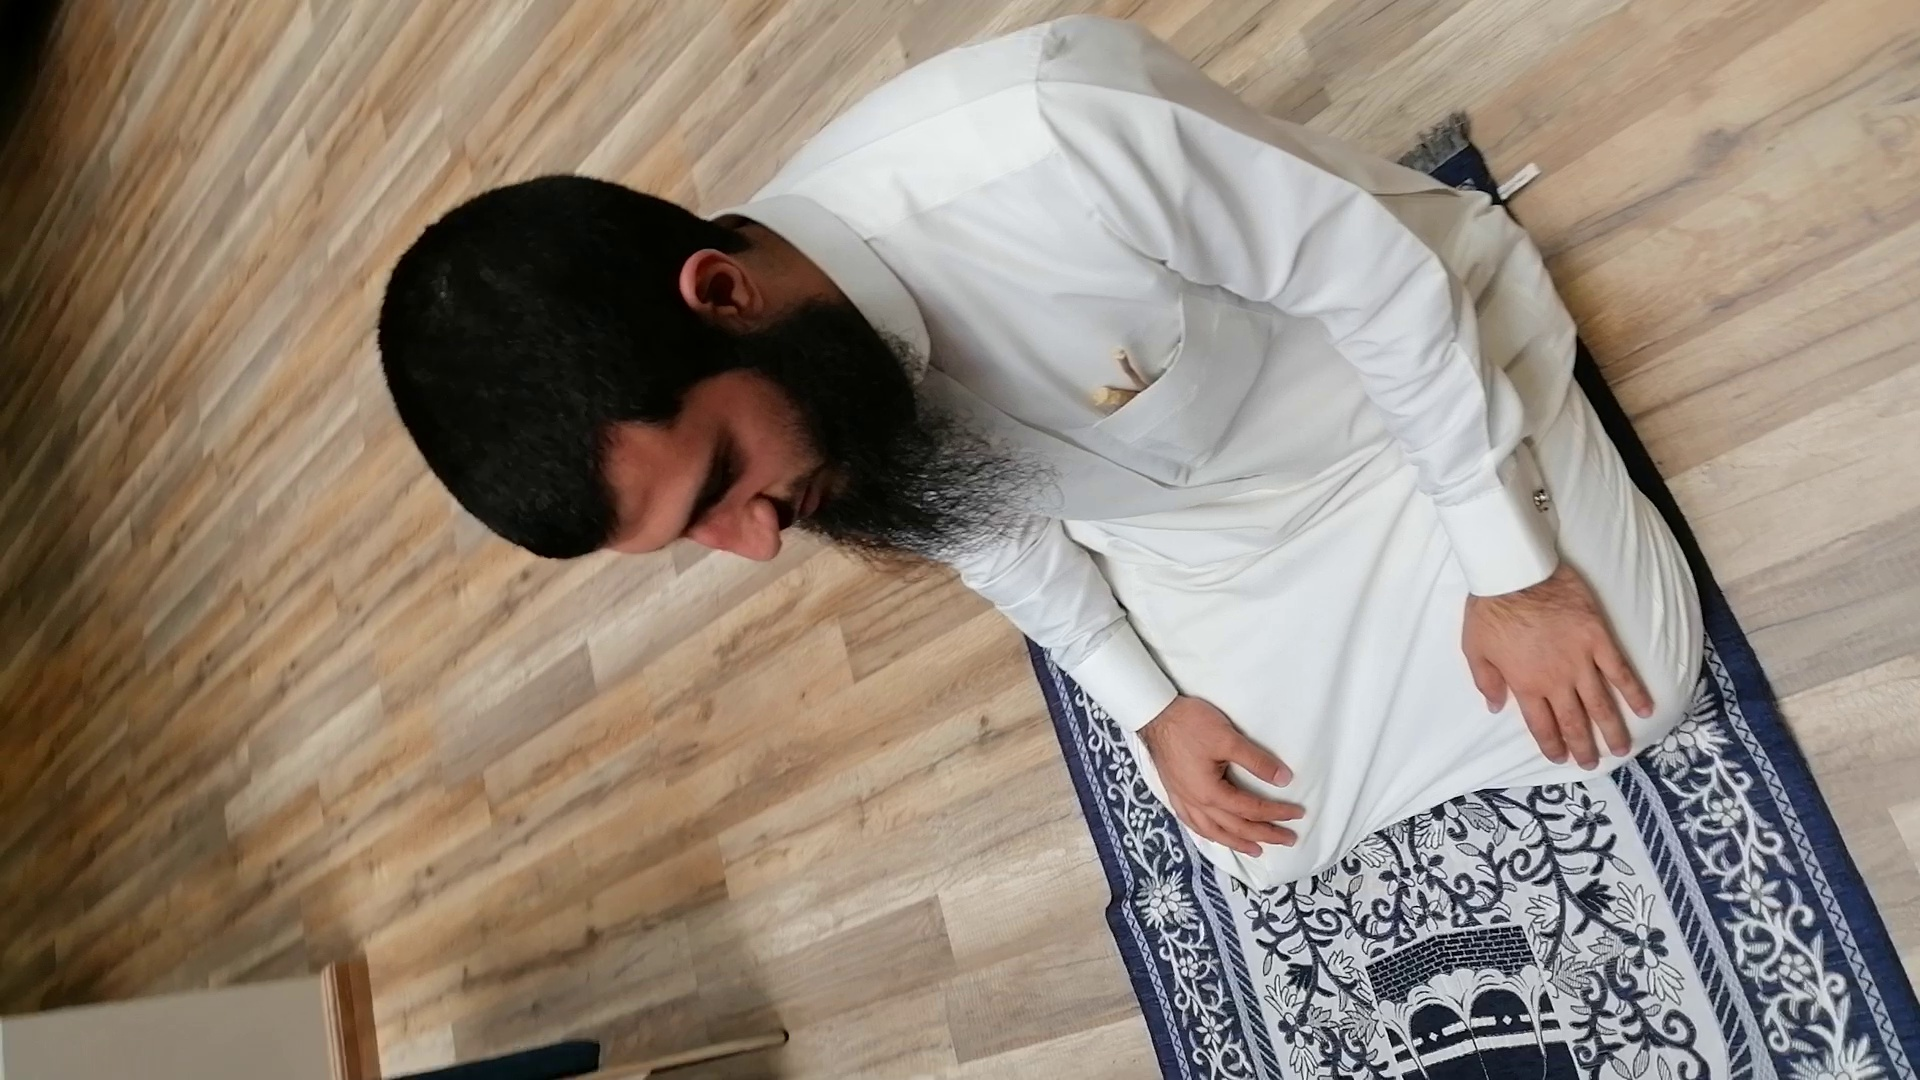sitting: (316, 12, 1695, 915)
